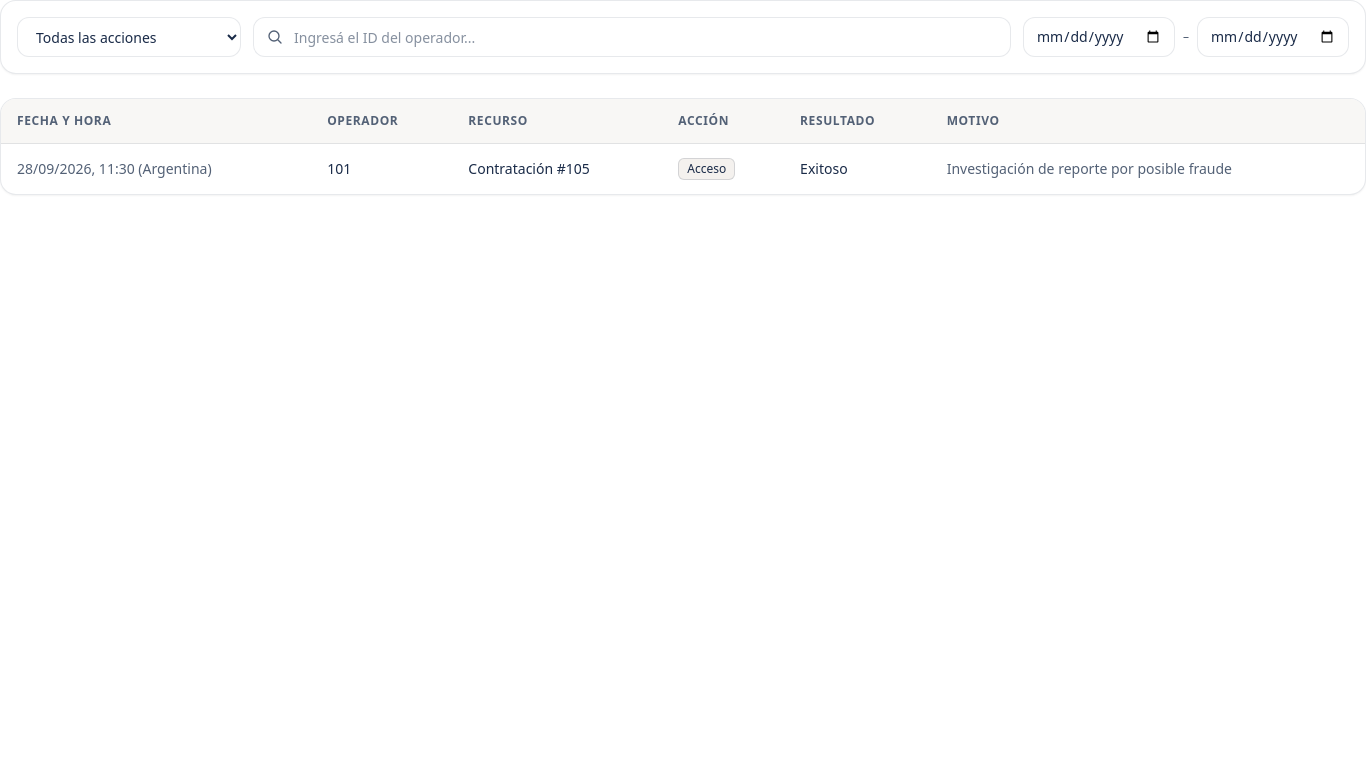
Test case: AuditConsolePage › opens details with the API correlation identifier
Expected: the text "101" is shown, [311, 144, 452, 194]
What coordinates should you click on to do the following:
click the text "101"
I would click on:
 (683, 169)
Its box is [1, 144, 1365, 194].
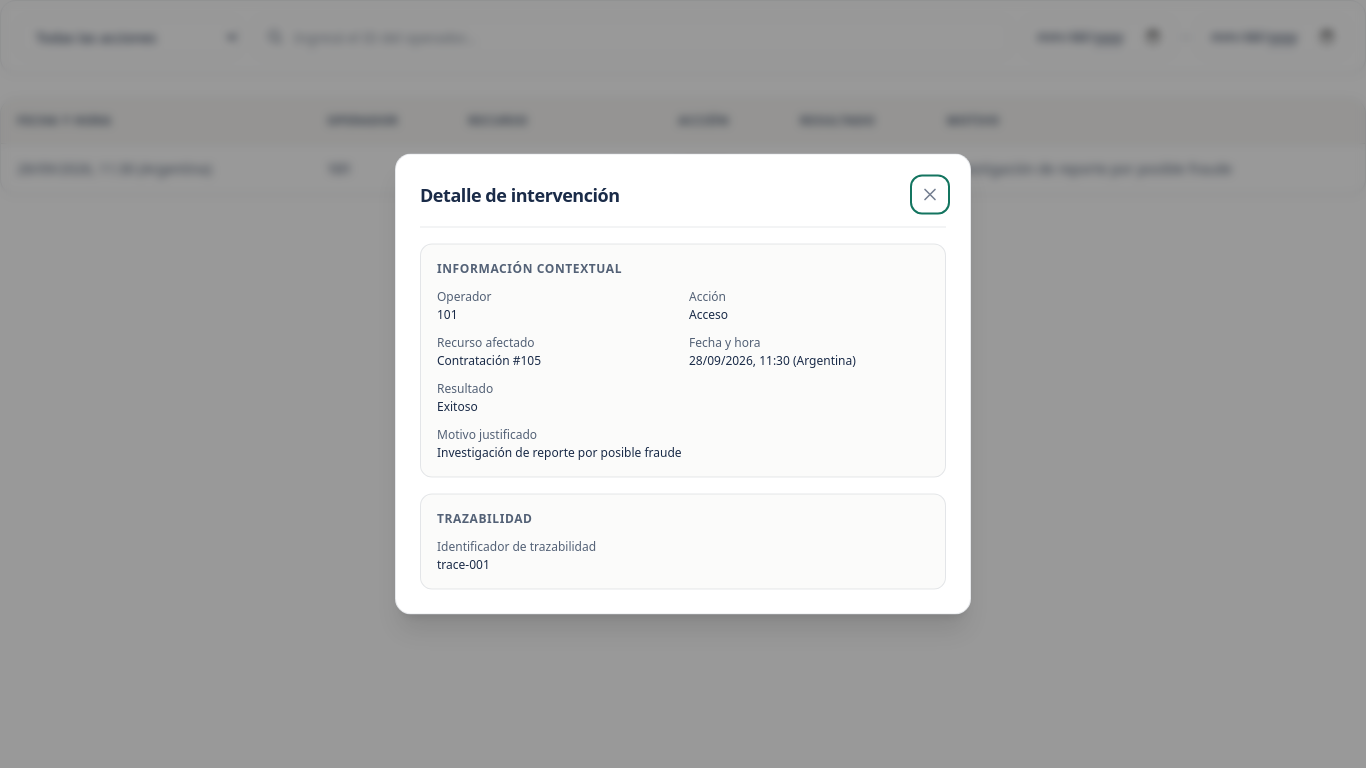
Expected: the dialog is shown, [395, 154, 971, 614]
Expected: the heading "Detalle de intervención" is shown, [420, 180, 620, 208]
Expected: the text "trace-001" is shown, [437, 556, 490, 572]
